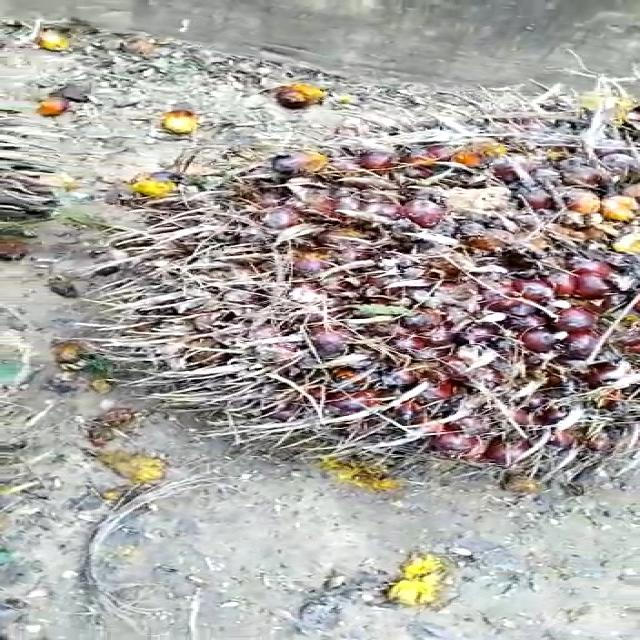palm oil: (103, 128, 640, 496)
